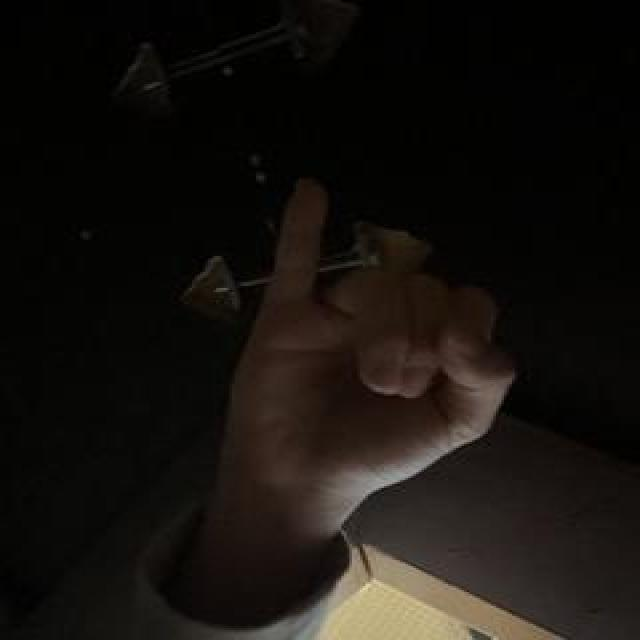I: (210, 169, 522, 501)
